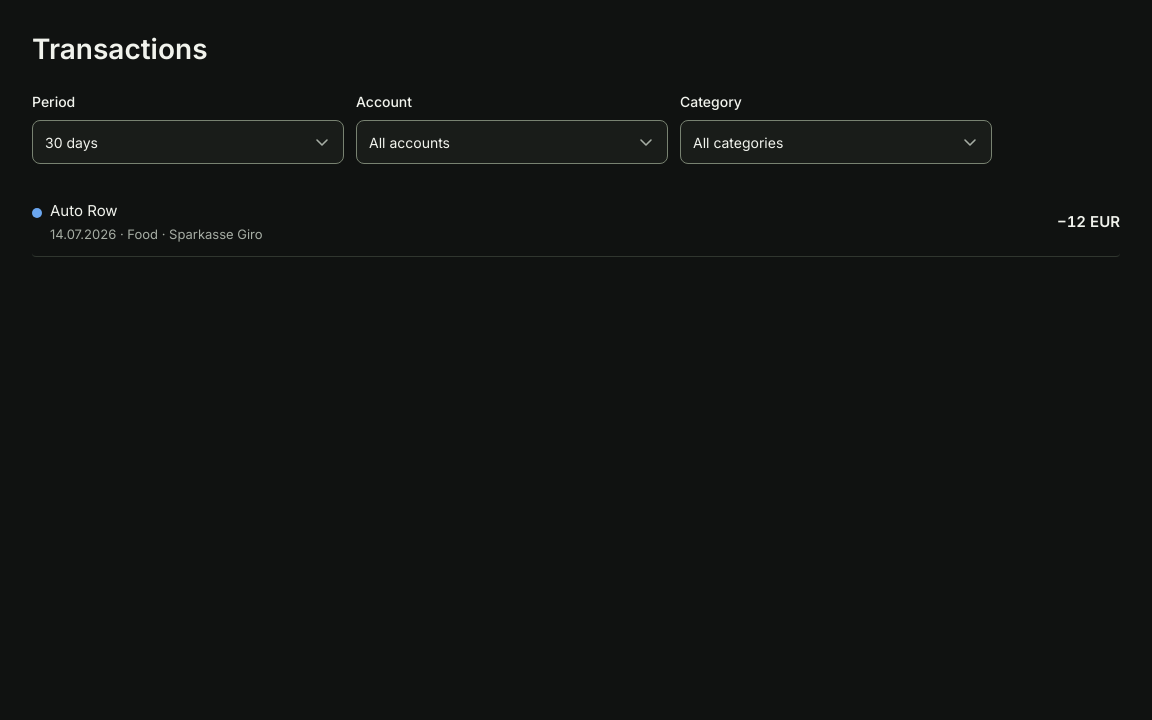
Test case: the category of one transaction › reads the hint back from the answer, so pinning a category the row already has shows
Step 1. Click the text "Auto Row" → (84, 210), box [50, 201, 118, 220]
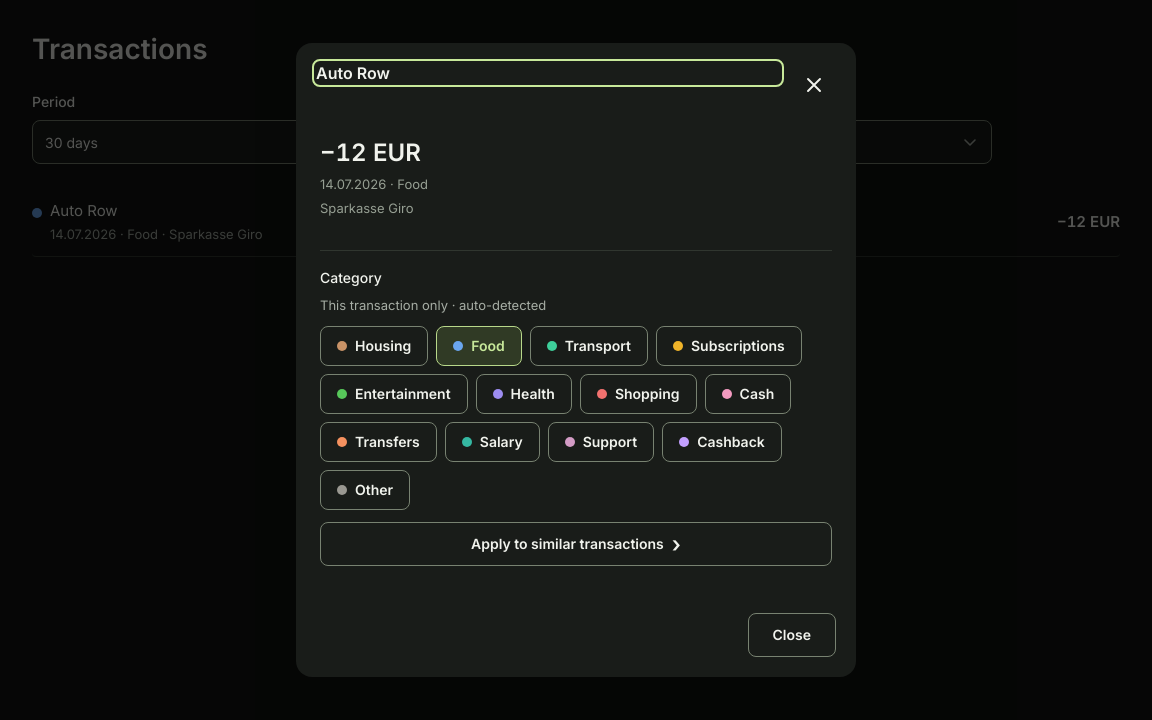
Expected: the text "This transaction only · auto-detected" is shown, [320, 297, 546, 313]
Step 2. Click the button with aria-label "Food, this transaction only" → (479, 346), box [436, 326, 522, 366]
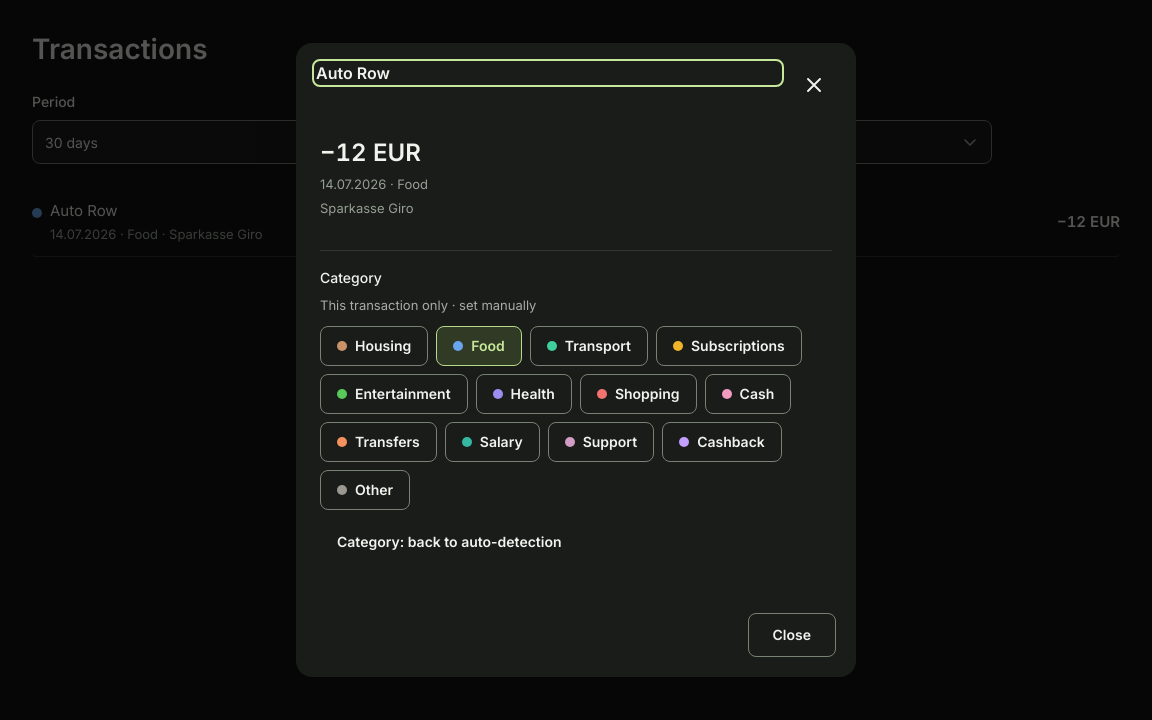
Expected: the text "This transaction only · set manually" is shown, [320, 297, 536, 313]
